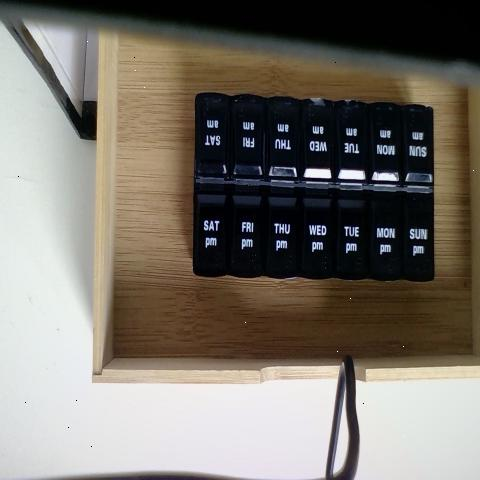FRI-am: (231, 95, 263, 184)
FRI-pm: (231, 193, 261, 279)
MON-am: (368, 106, 401, 192)
MON-pm: (371, 203, 398, 277)
SAT-am: (196, 97, 226, 184)
SAT-pm: (194, 193, 228, 274)
SUN-am: (402, 107, 434, 187)
SUN-pm: (401, 199, 434, 282)
THU-am: (268, 100, 296, 188)
THU-pm: (264, 194, 298, 278)
TUE-am: (335, 106, 364, 191)
TUE-pm: (335, 198, 366, 278)
WED-am: (299, 101, 333, 194)
WED-pm: (299, 196, 332, 277)
